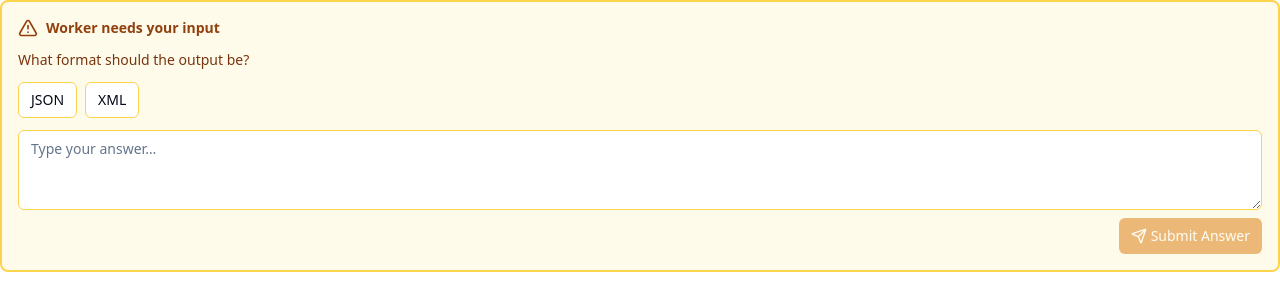
Test: InteractiveResponse › sets textarea value when option is clicked
Click the button with test id "option-JSON" at coordinates (48, 100), box [18,82,77,118]
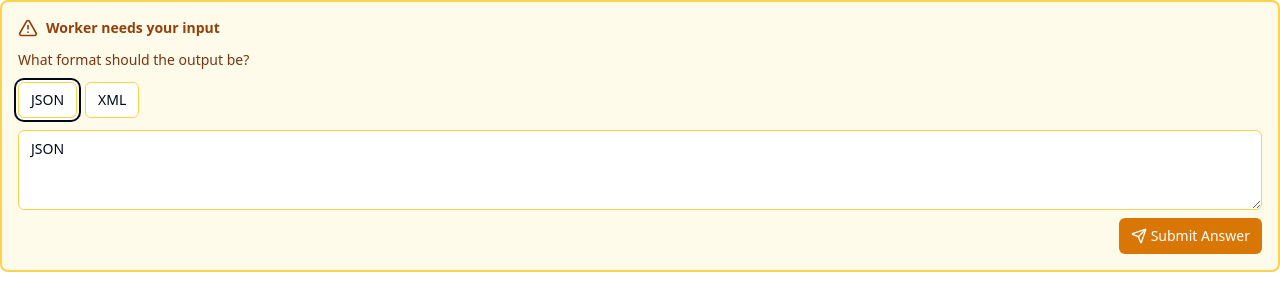
expect the text box with test id "answer-input" holds "JSON": met, box [18,130,1262,210]
